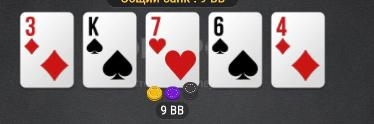3d: (20, 12, 74, 88)
4d: (272, 13, 324, 87)
6s: (209, 13, 262, 88)
7h: (147, 13, 199, 86)
Ks: (83, 12, 135, 87)
